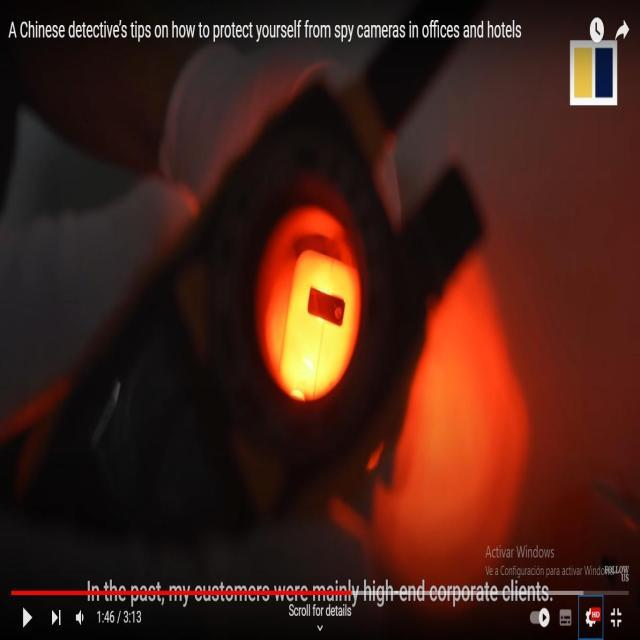hidden camera: (326, 288, 348, 335)
